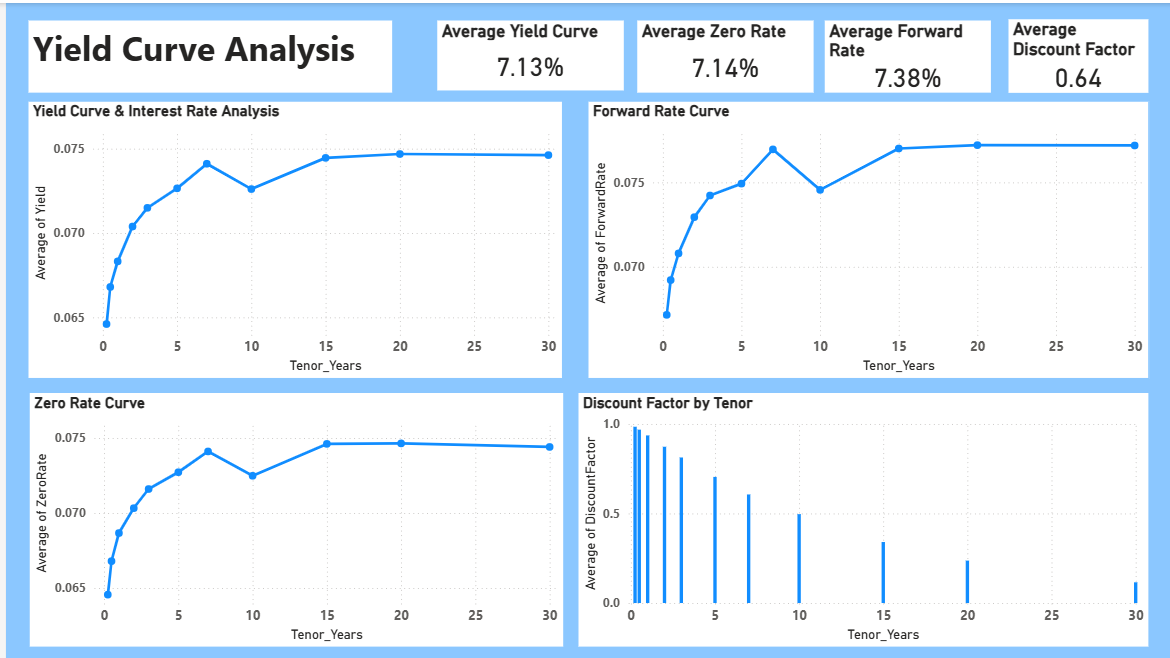

The dashboard page shown, as its layout file describes it:
{"tool":"powerbi","page":{"name":"Yield Curve Analysis","canvas":[1280,720],"ordinal":1},"visuals":[{"type":"textbox","box":[24.7,19.2,399.3,79.6],"z":0},{"type":"card","title":"Average Forward Rate","fields":{"Values":["yield_curve_history.Average Forward Rate"]},"box":[898.8,19.2,182.5,79.6],"z":1000},{"type":"card","title":"Average Yield Curve","fields":{"Values":["yield_curve_history.Average Yield Curve"]},"box":[473.4,19.2,204.5,76.8],"z":2000},{"type":"card","title":"Average Discount Factor","fields":{"Values":["yield_curve_history.Average Discount Factor"]},"box":[1100.5,17.8,153.7,81],"z":3000},{"type":"card","title":"Average Zero Rate","fields":{"Values":["yield_curve_history.Average Zero Rate"]},"box":[693,19.2,193.5,79.6],"z":4000},{"type":"lineChart","title":"Yield Curve & Interest Rate Analysis","fields":{"Category":["yield_curve_history.Tenor_Years"],"Y":["Avg(yield_curve_history.Yield)"]},"box":[24.7,108.4,585.9,303.3],"z":5000},{"type":"lineChart","title":"Zero Rate Curve","fields":{"Category":["yield_curve_history.Tenor_Years"],"Y":["Avg(yield_curve_history.ZeroRate)"]},"box":[26.1,428.1,585.9,278.6],"z":6000},{"type":"lineChart","title":"Forward Rate Curve","fields":{"Category":["yield_curve_history.Tenor_Years"],"Y":["Avg(yield_curve_history.ForwardRate)"]},"box":[639.5,108.4,614.8,303.3],"z":7000},{"type":"clusteredColumnChart","title":"Discount Factor by Tenor","fields":{"Category":["yield_curve_history.Tenor_Years"],"Y":["Avg(yield_curve_history.DiscountFactor)"]},"box":[628.5,428.1,625.7,278.6],"z":8000}]}

Visuals, with their boxes in screenshot pixels (x1, y1, x2, y2), scaled from the page's 1280x720 canvas onto the 1170x658 screenshot:
textbox: (x1=23, y1=18, x2=388, y2=90)
"Average Forward Rate" card: (x1=822, y1=18, x2=988, y2=90)
"Average Yield Curve" card: (x1=433, y1=18, x2=620, y2=88)
"Average Discount Factor" card: (x1=1006, y1=16, x2=1146, y2=90)
"Average Zero Rate" card: (x1=633, y1=18, x2=810, y2=90)
"Yield Curve & Interest Rate Analysis" lineChart: (x1=23, y1=99, x2=558, y2=376)
"Zero Rate Curve" lineChart: (x1=24, y1=391, x2=559, y2=646)
"Forward Rate Curve" lineChart: (x1=585, y1=99, x2=1147, y2=376)
"Discount Factor by Tenor" clusteredColumnChart: (x1=574, y1=391, x2=1146, y2=646)
